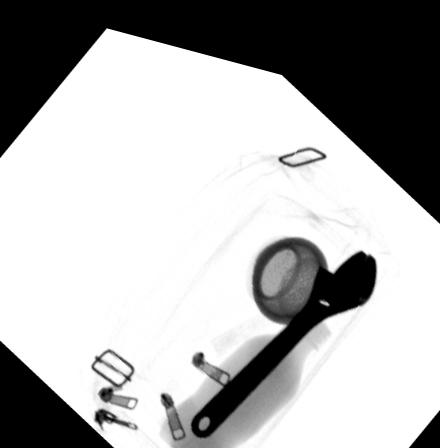Wrench: (185, 228, 378, 428)
